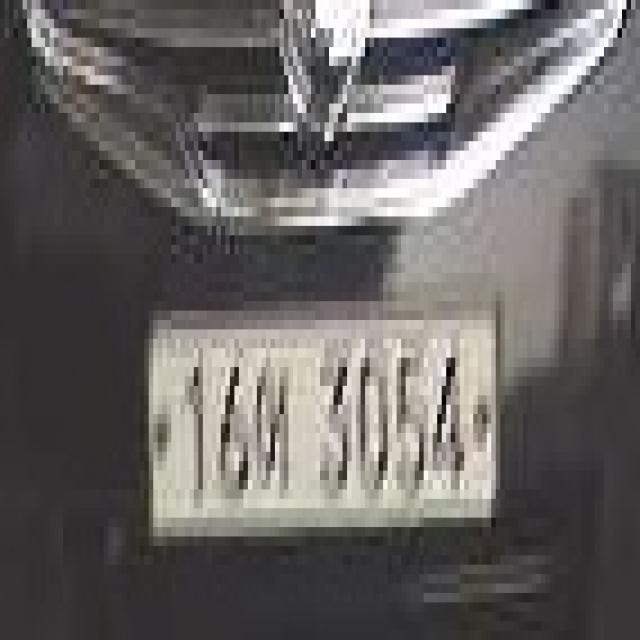0: (356, 348, 392, 518)
1: (180, 339, 217, 508)
3: (311, 348, 356, 508)
4: (428, 348, 469, 508)
5: (392, 348, 433, 518)
6: (216, 358, 252, 518)
eo: (252, 358, 298, 508)
license_plate: (140, 292, 509, 574)
